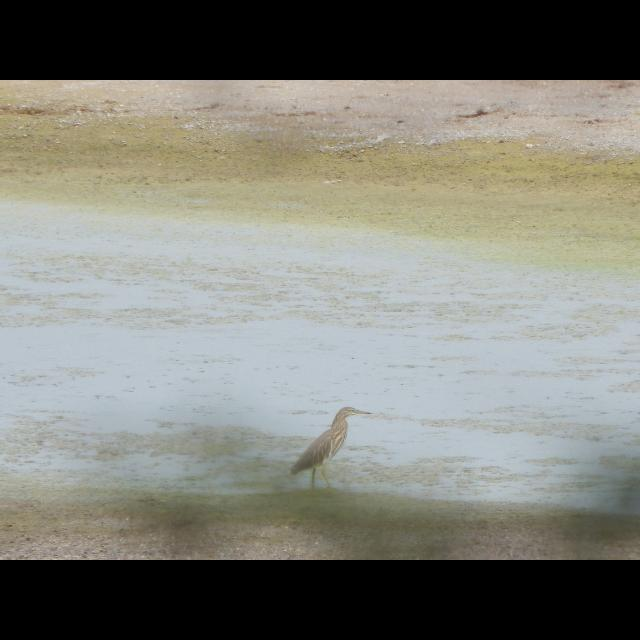heron: (290, 408, 380, 492)
